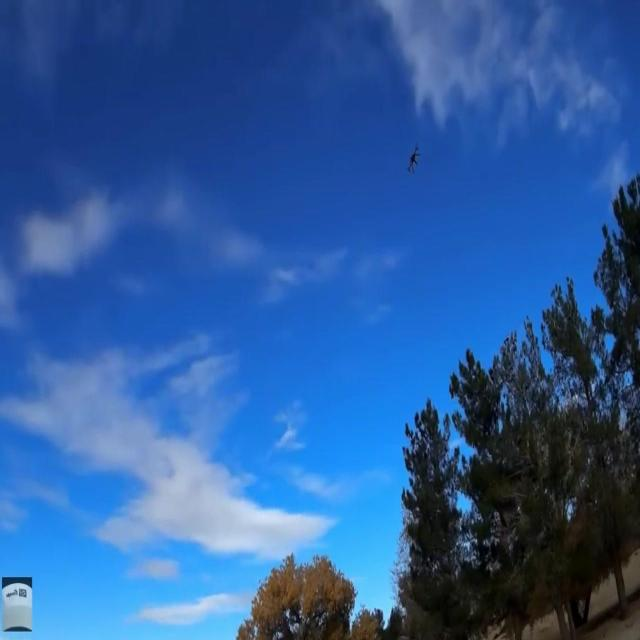drone: (404, 141, 422, 180)
